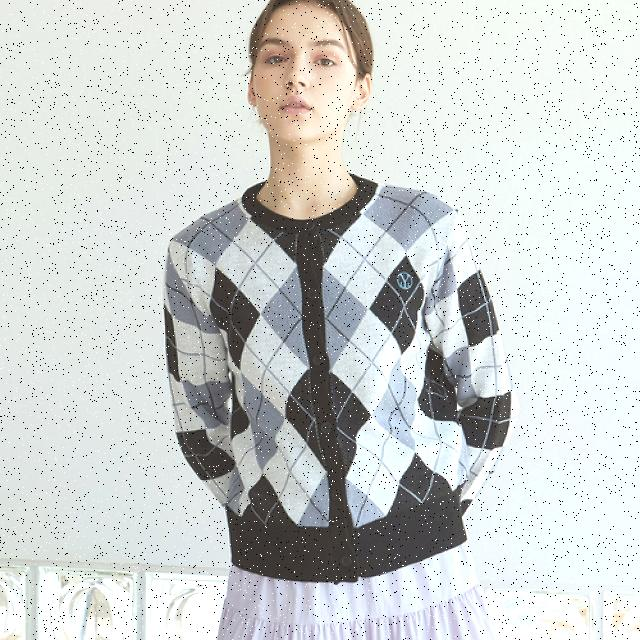Blouse_deep: (162, 186, 518, 575)
